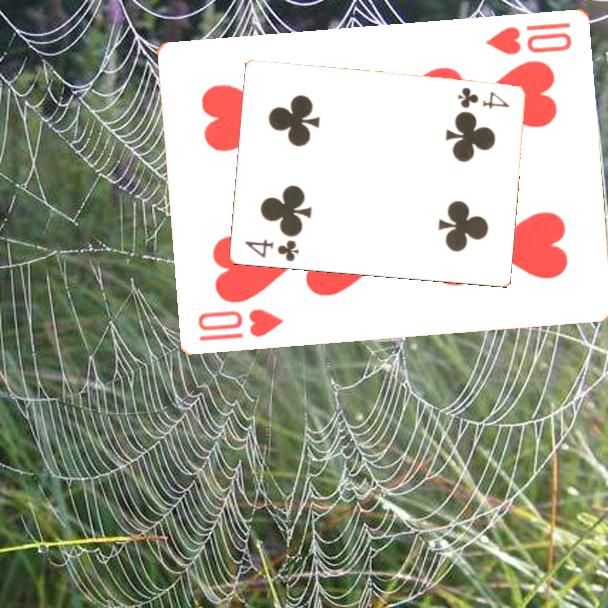c04: (241, 236, 301, 265), (454, 84, 512, 112)
h10: (195, 304, 286, 344), (482, 18, 575, 57)
